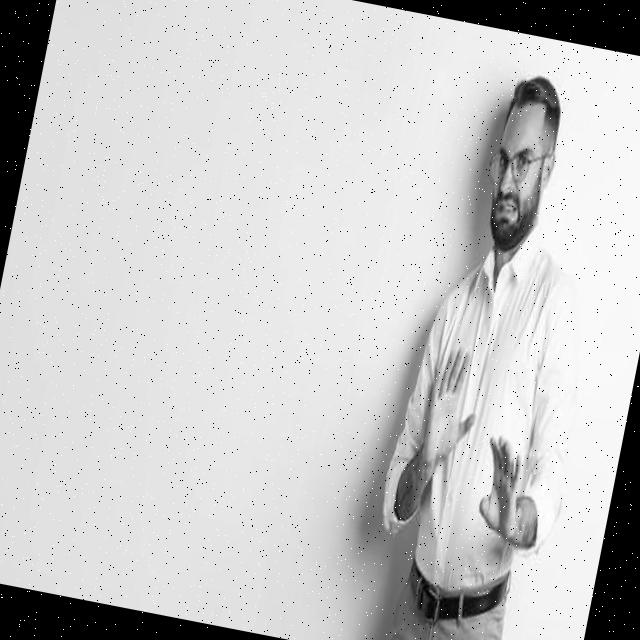Disgust: (478, 104, 552, 253)
